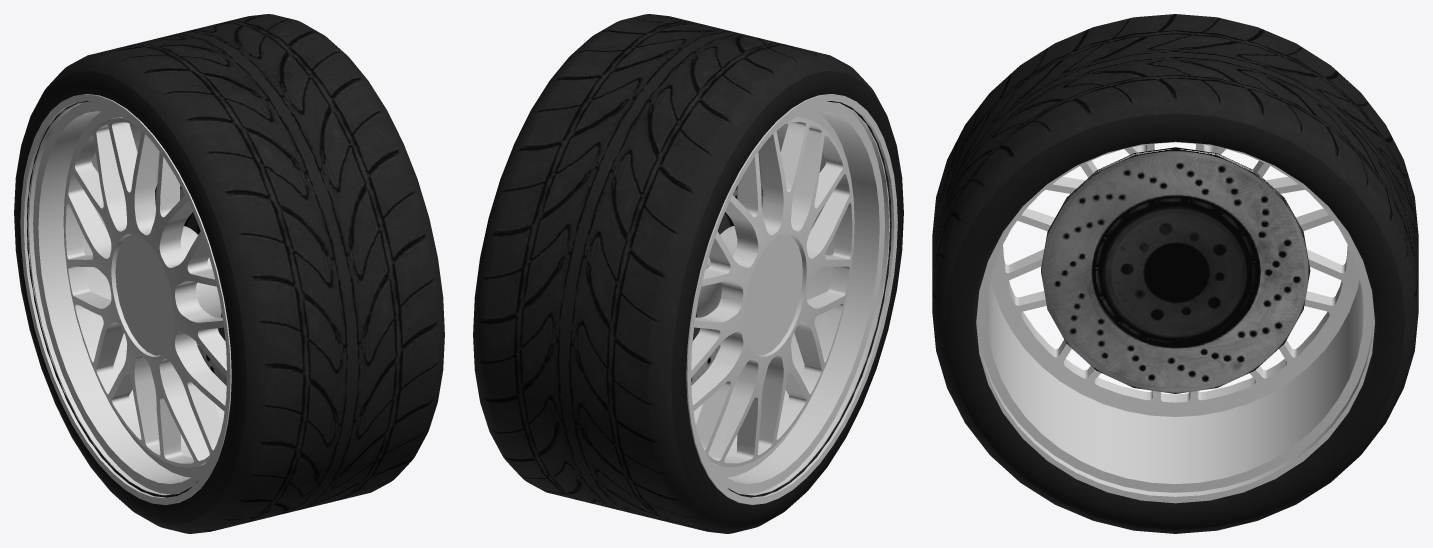
File: 02_BBS.fbx
3 views of the same model, side by side, from view 1: azimuth 30°, elevation 25°; view 2: azimuth 150°, elevation 25°; view 3: azimuth 270°, elevation 25° (orthographic).
Visible parts, largest first — view 1: Combined No Name Object 0, BBS, Combined co_contisportcontact_2_vmax_wall Object 0, Rotor; view 2: Combined No Name Object 0, BBS, Combined co_contisportcontact_2_vmax_wall Object 0, Rotor; view 3: Combined No Name Object 0, BBS, Rotor, Combined co_contisportcontact_2_vmax_wall Object 0.
Boxes of the visible parts, bbox=[...] form: Combined No Name Object 0: bbox=[14, 14, 444, 533]; BBS: bbox=[20, 94, 231, 504]; Combined co_contisportcontact_2_vmax_wall Object 0: bbox=[14, 70, 246, 525]; Rotor: bbox=[155, 185, 226, 385]; Combined No Name Object 0: bbox=[473, 14, 903, 533]; BBS: bbox=[686, 94, 897, 504]; Combined co_contisportcontact_2_vmax_wall Object 0: bbox=[671, 70, 903, 525]; Rotor: bbox=[691, 185, 763, 385]; Combined No Name Object 0: bbox=[932, 14, 1418, 533]; BBS: bbox=[976, 141, 1374, 503]; Rotor: bbox=[1041, 147, 1310, 393]; Combined co_contisportcontact_2_vmax_wall Object 0: bbox=[945, 113, 1405, 530].
Bounding box in the file's own units: 0.335 × 0.688 × 0.688.
